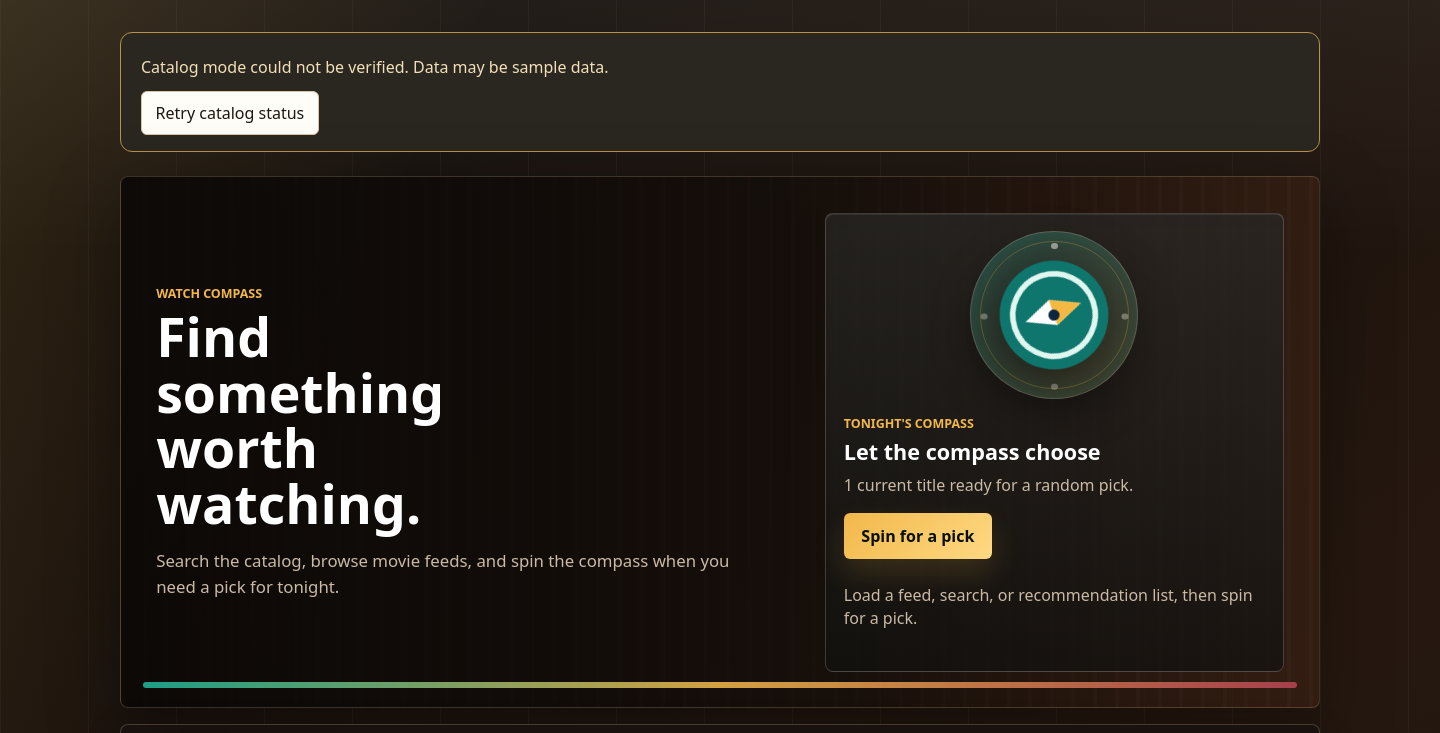
Test case: catalog identity › shows uncertainty after a metadata failure and can retry
The width and height of the screenshot is (1440, 733).
Expected: the message shows "Data may be sample data", [141,56,608,78]
Click the button "Retry catalog status".
click(230, 113)  # box [141,91,319,135]
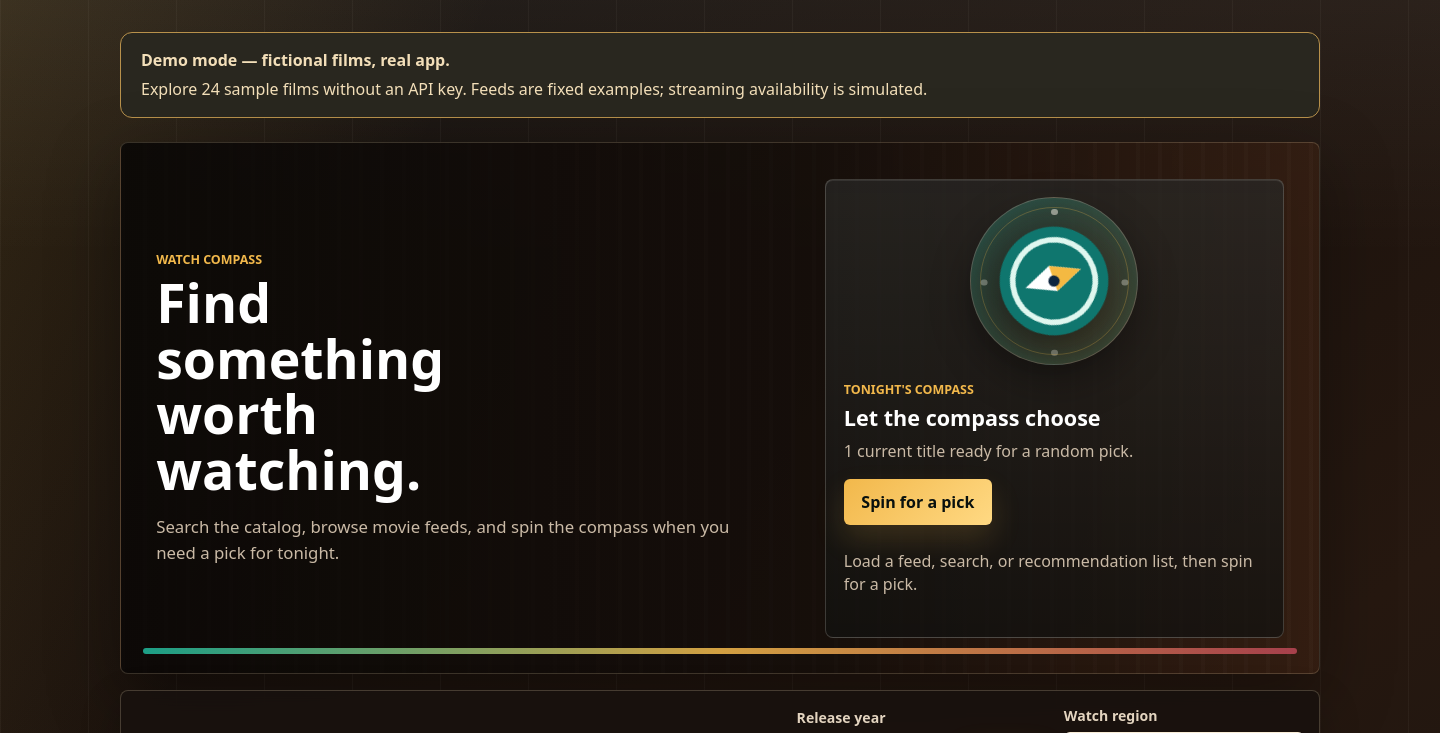
Expected: the element named "Demo catalog" is shown, [120,32,1320,118]
